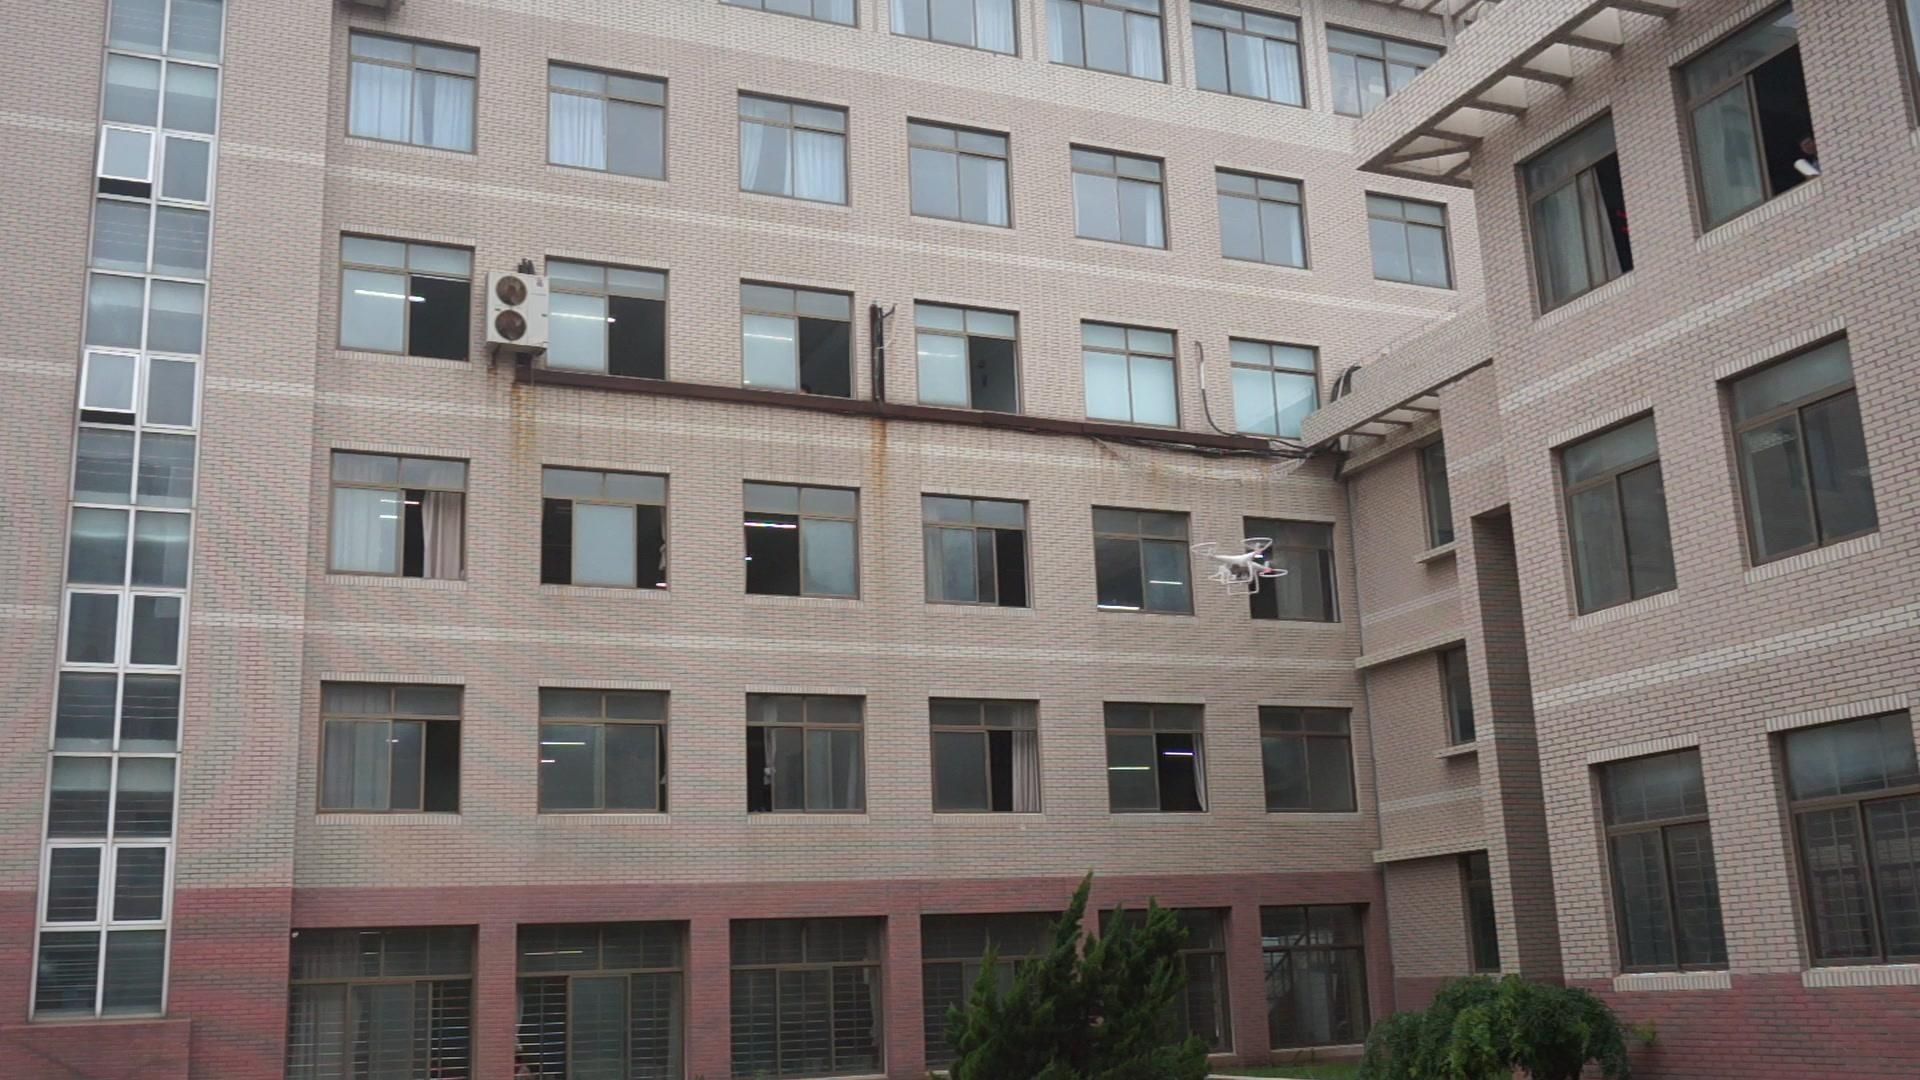UAV: (1189, 538, 1288, 596)
